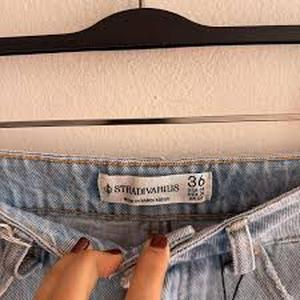stradivarius: (94, 178, 182, 196)
